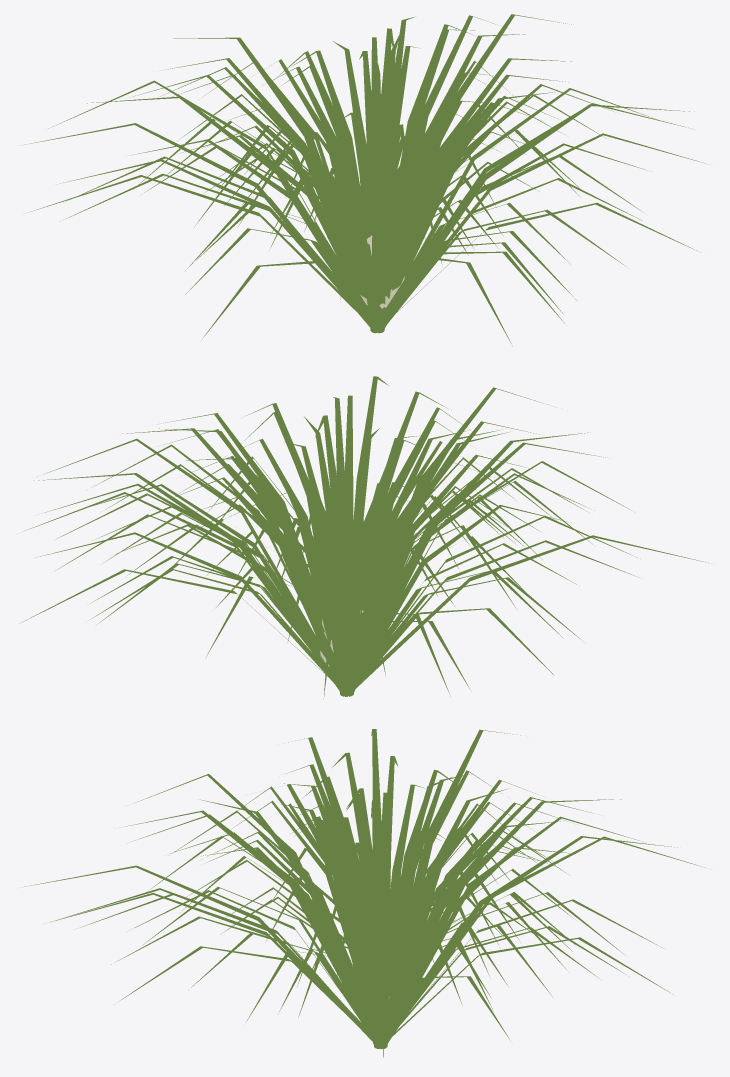
File: Blender_LongleafGrass_1.glb
3 renders of one model, top to bottom at view 1: azimuth 30°, elevation 25°; view 2: azimuth 150°, elevation 25°; view 3: azimuth 270°, elevation 25°, orthographic. The views are drawn at different scales.
Parts seen in each view (by area): view 1: Blender_LongleafGrass_1; view 2: Blender_LongleafGrass_1; view 3: Blender_LongleafGrass_1.
Boxes of the visible parts, bbox=[...] form: Blender_LongleafGrass_1: bbox=[20, 14, 705, 345]; Blender_LongleafGrass_1: bbox=[19, 376, 709, 698]; Blender_LongleafGrass_1: bbox=[22, 729, 705, 1057].
Size of the model in its own units: 1.08 by 0.4407 by 1.15.
